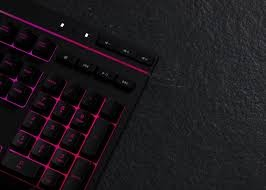keyboard: (0, 3, 152, 190)
